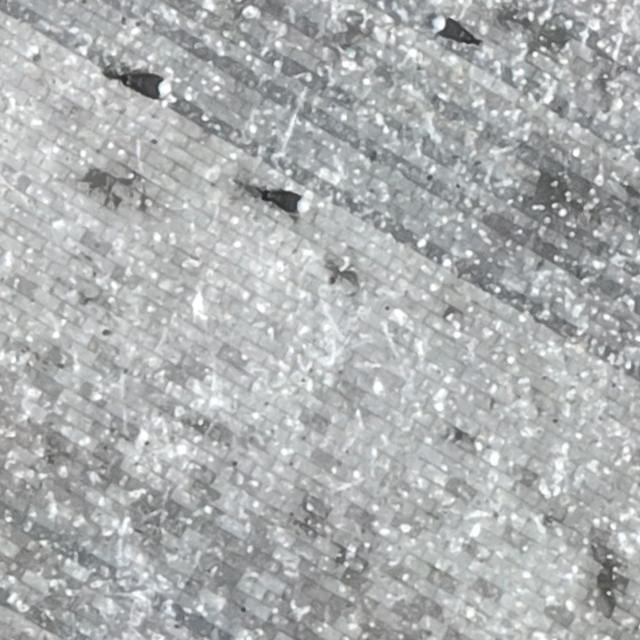umineko: (263, 191, 311, 215), (128, 77, 172, 98), (434, 16, 472, 38)
